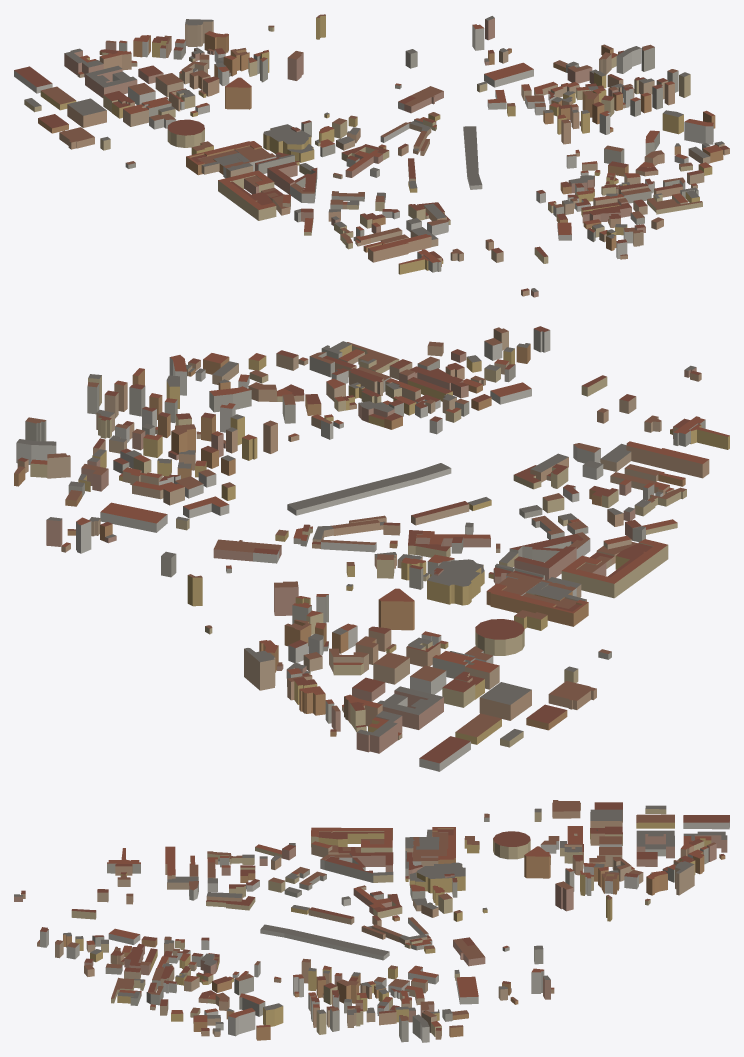
Rendered from SM_Fondale_Citta_N_01.fbx.
The picture shows the model from 3 angles, top to bottom: view 1: azimuth 30°, elevation 25°; view 2: azimuth 150°, elevation 25°; view 3: azimuth 270°, elevation 25°; orthographic projection. The views are drawn at different scales.
Visible parts, largest first — view 1: SM_Fondale_Citta_N_01; view 2: SM_Fondale_Citta_N_01; view 3: SM_Fondale_Citta_N_01.
Part boxes in pixels (x1=…): SM_Fondale_Citta_N_01: x1=14, y1=14, x2=729, y2=297; SM_Fondale_Citta_N_01: x1=14, y1=326, x2=729, y2=771; SM_Fondale_Citta_N_01: x1=14, y1=800, x2=729, y2=1042.
Bounding box in the file's own units: 80424 × 98100 × 6853.
